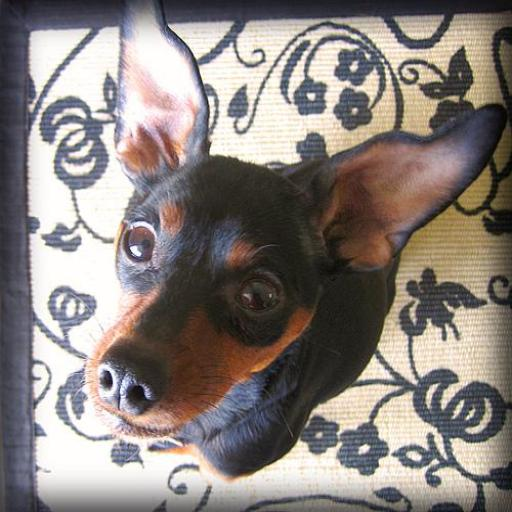dog_face: (86, 15, 457, 450)
